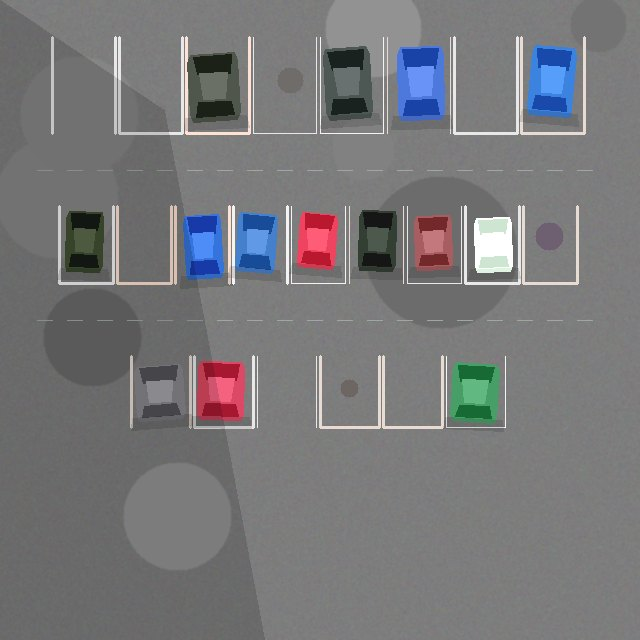space-empty: (52, 37, 115, 133), (119, 37, 182, 133), (253, 37, 316, 133), (454, 37, 517, 133), (257, 356, 316, 427), (320, 356, 379, 427), (383, 356, 442, 427), (117, 206, 171, 283), (523, 206, 577, 283)
space-occupied: (186, 37, 249, 133), (320, 37, 383, 133), (387, 37, 450, 133), (521, 37, 584, 133), (131, 356, 190, 427), (194, 356, 253, 427), (446, 356, 505, 427), (59, 206, 113, 283), (175, 206, 229, 283), (233, 206, 287, 283), (291, 206, 345, 283), (349, 206, 403, 283), (407, 206, 461, 283), (465, 206, 519, 283)
